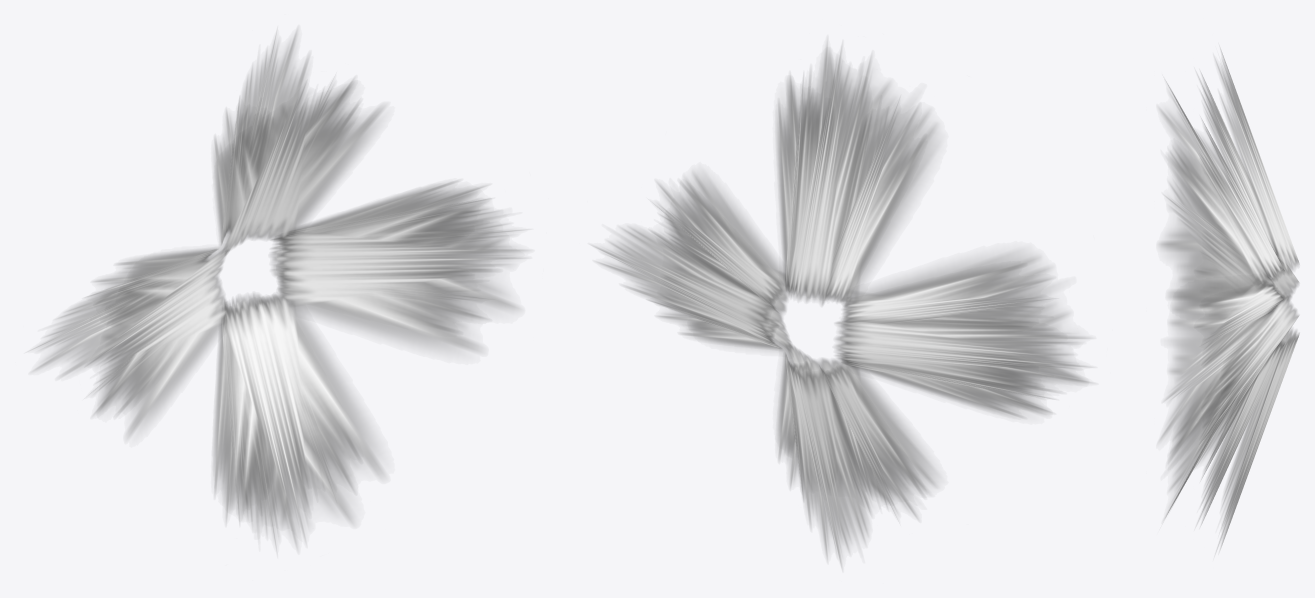
Rendered from si_eop_0001.glb.
The picture shows the model from 3 angles, left to right: view 1: azimuth 30°, elevation 25°; view 2: azimuth 150°, elevation 25°; view 3: azimuth 270°, elevation 25°; orthographic projection. The views are drawn at different scales.
Parts seen in each view (by area): view 1: layer_00_si_est_0500; view 2: layer_00_si_est_0500; view 3: layer_00_si_est_0500.
Part boxes in pixels (x1,y1,x2,y2): layer_00_si_est_0500: [32, 31, 526, 548]; layer_00_si_est_0500: [594, 43, 1090, 566]; layer_00_si_est_0500: [1159, 51, 1299, 546].
Bounding box in the file's own units: 124 × 124 × 33.18.
1 material, 1 textured.
